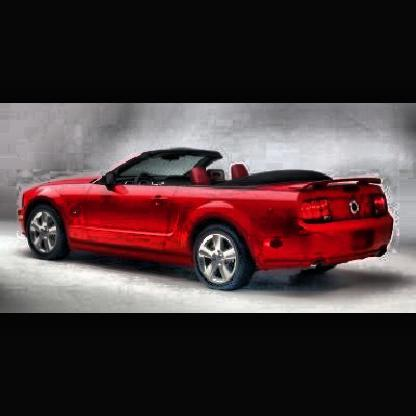Ford Mustang Convertible 2007: (16, 146, 398, 294)
